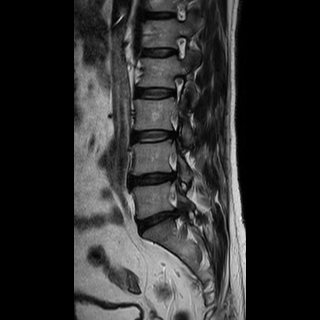RFS0: (166, 31, 190, 65)
